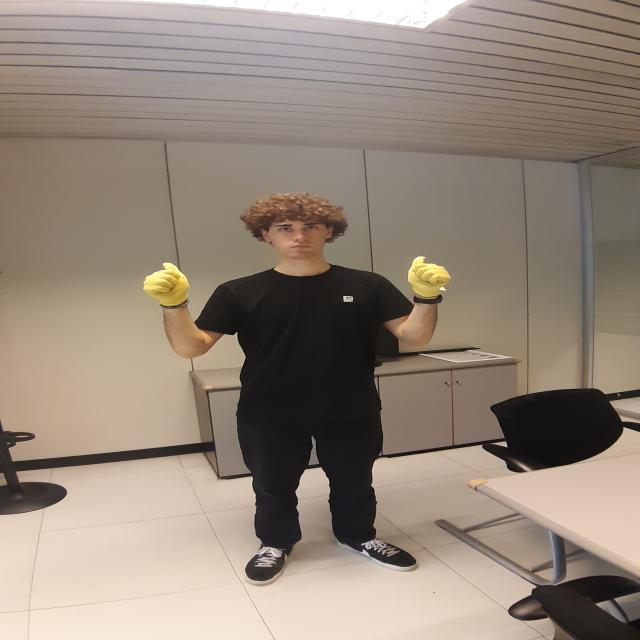gloved_hand: (405, 255, 456, 302), (145, 261, 189, 305)
